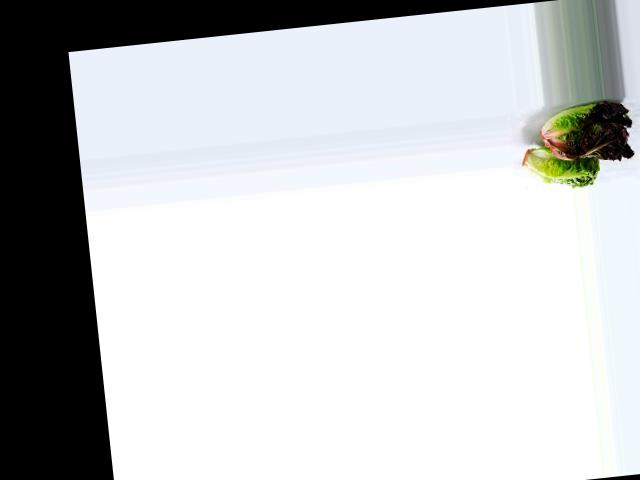lettuce: (517, 138, 603, 194)
